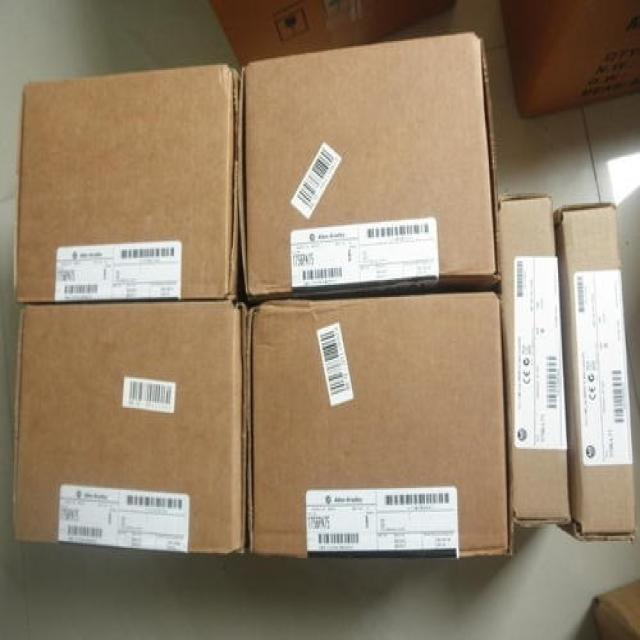Carton: (247, 297, 508, 555), (242, 31, 497, 295), (13, 304, 243, 551), (12, 58, 233, 299), (559, 200, 632, 539), (498, 198, 571, 522)
